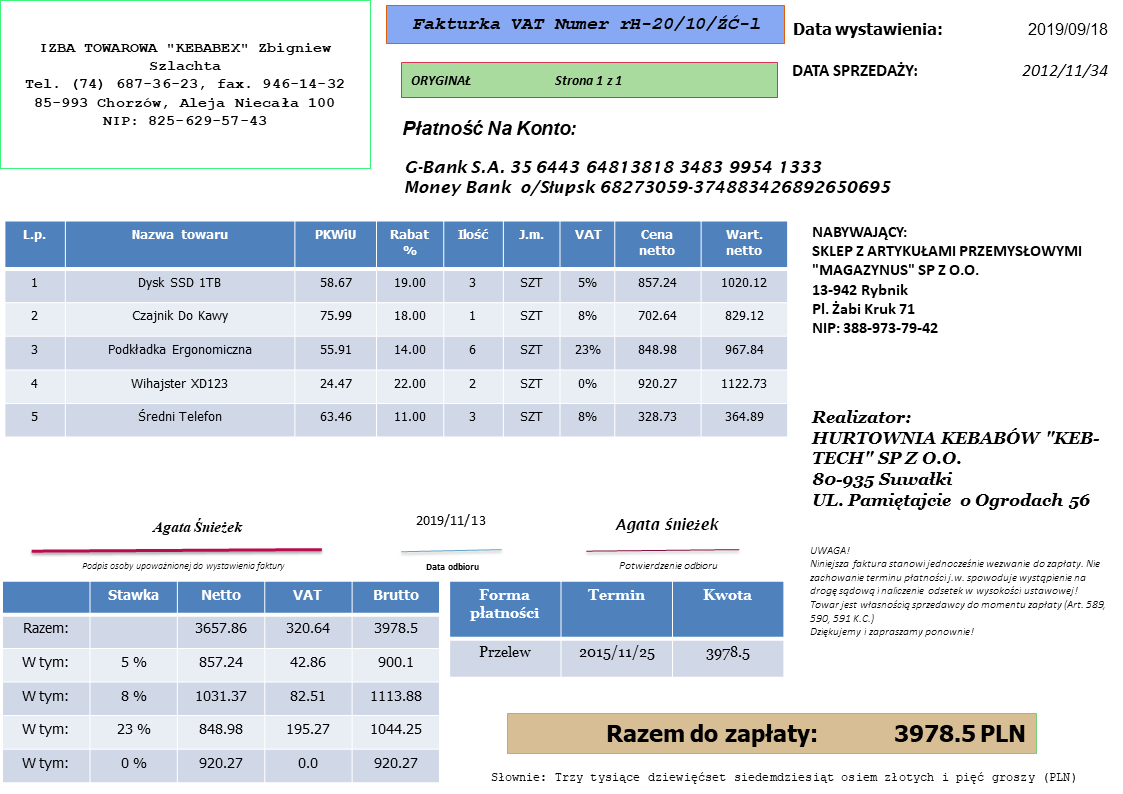Table: (4, 221, 788, 439), (2, 581, 439, 784), (448, 580, 785, 680)
TextBox: (809, 223, 1086, 338), (808, 405, 1102, 512), (808, 542, 1108, 641), (21, 40, 349, 129), (402, 158, 894, 197), (605, 722, 1028, 747), (489, 769, 1077, 786), (410, 13, 764, 32), (399, 117, 579, 139), (408, 72, 626, 89), (79, 558, 285, 574), (790, 20, 944, 40), (790, 61, 919, 80), (611, 515, 720, 536), (150, 515, 242, 538), (1020, 60, 1110, 80), (615, 557, 719, 574), (1025, 19, 1110, 39), (413, 512, 488, 530), (423, 559, 480, 574)
